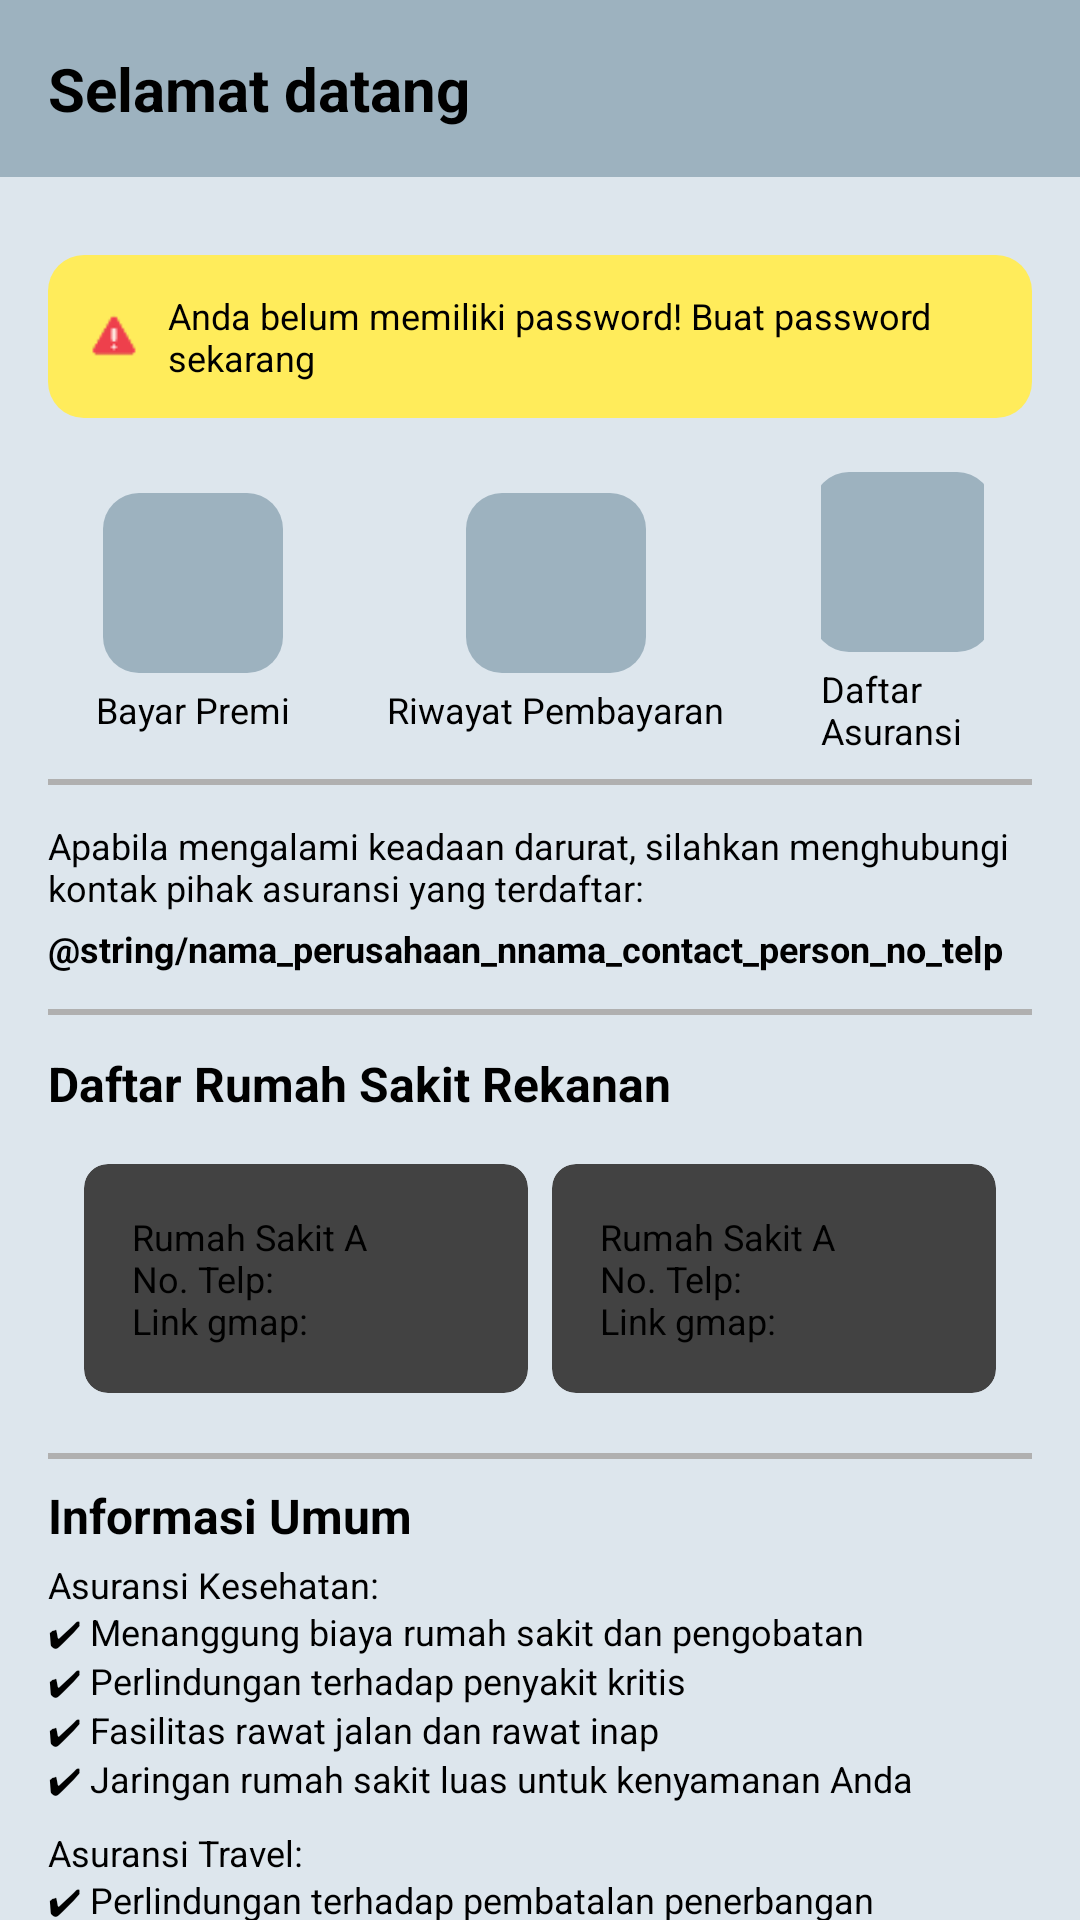

Screen size 1080px×1920px. Icon name, then its box in pixels as (x1, y1, x2, y2):
warning: (92, 316, 136, 356)
